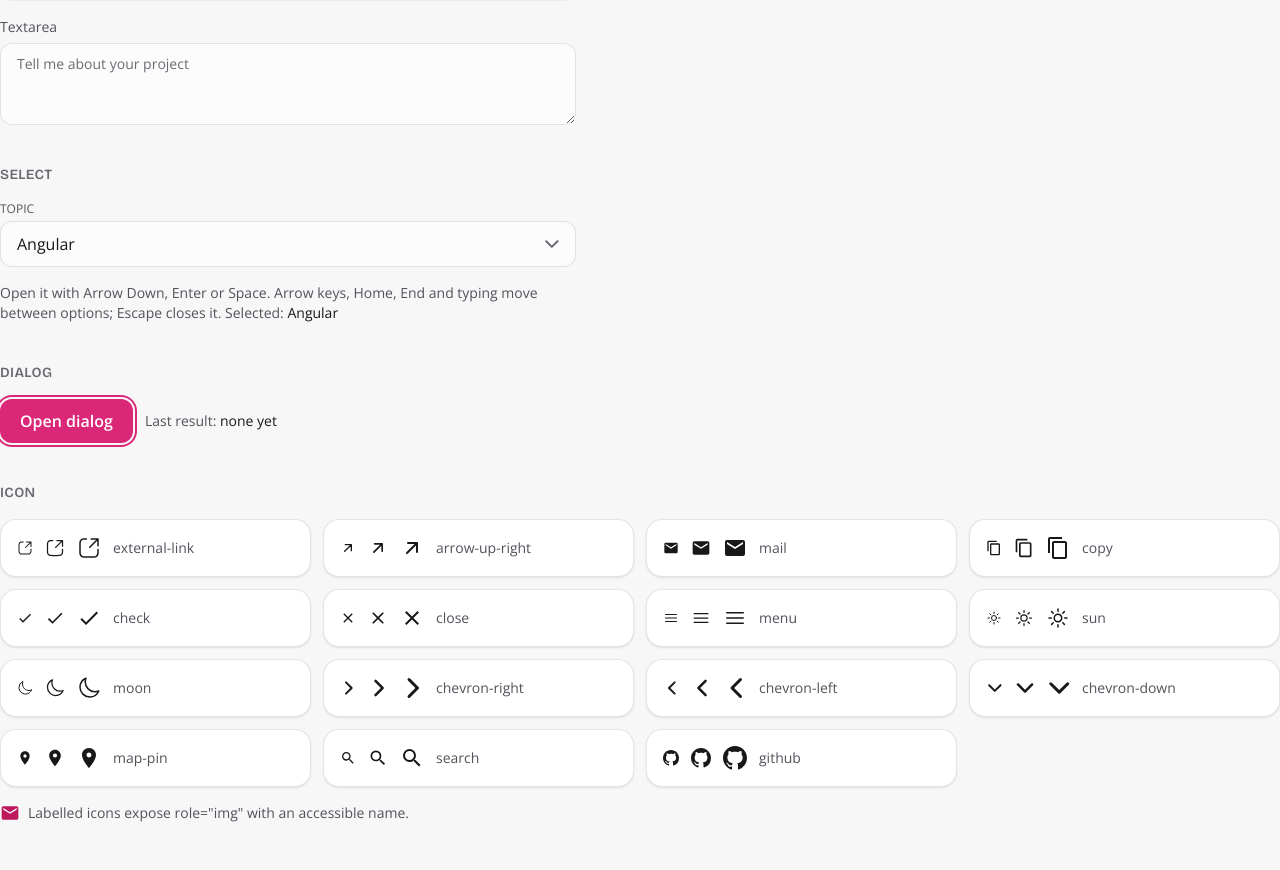
Test: UiKitComponent › select and dialog demos › opens the demo dialog from the primary button and reports its result
The image size is (1280, 870).
(page scrolled)
Click the button "Open dialog".
click(66, 421)  # box [0,399,133,443]
(page scrolled)
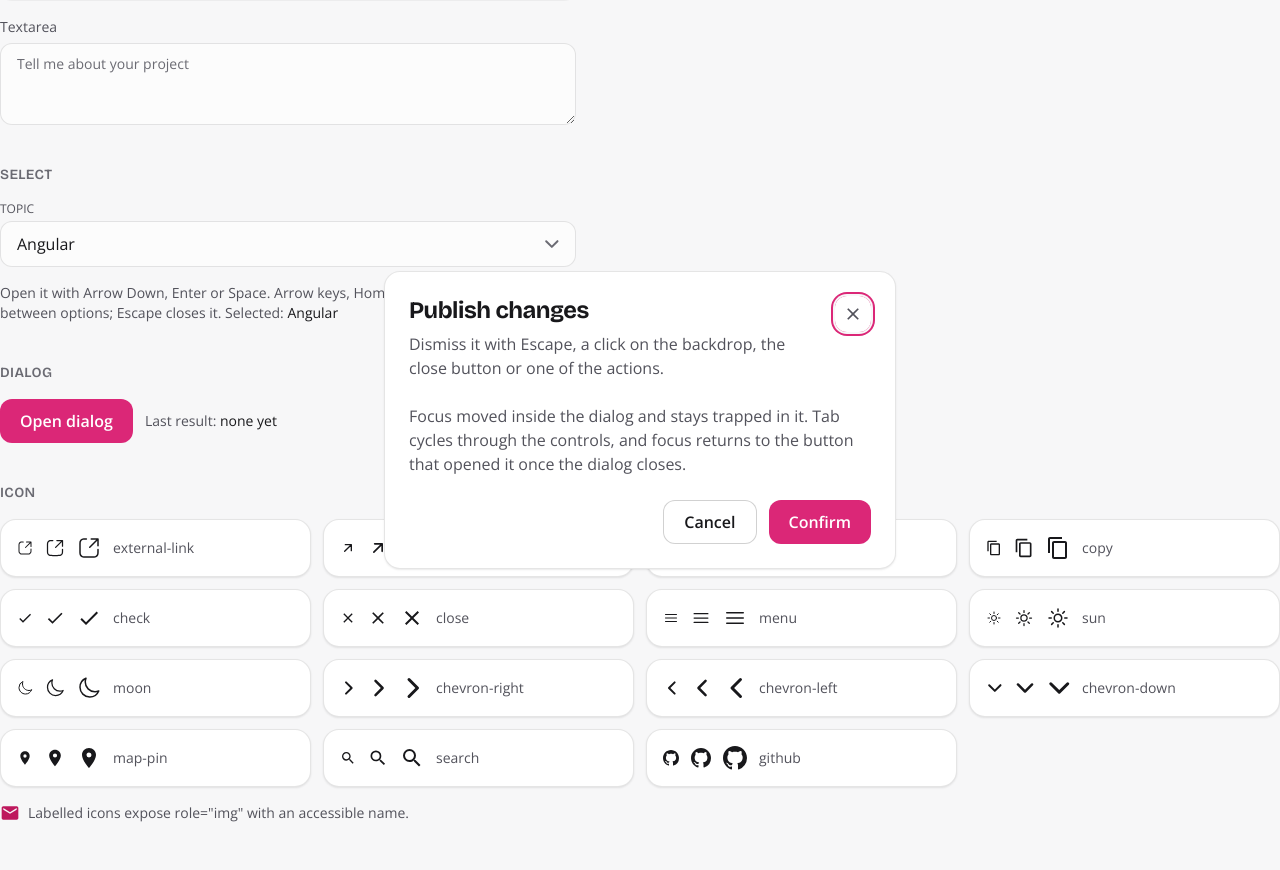
Expected: the element that starts with "Publish changes" is shown, [384,271,896,569]
Click the button "Confirm".
click(820, 522)  # box [768,500,871,544]
(page scrolled)
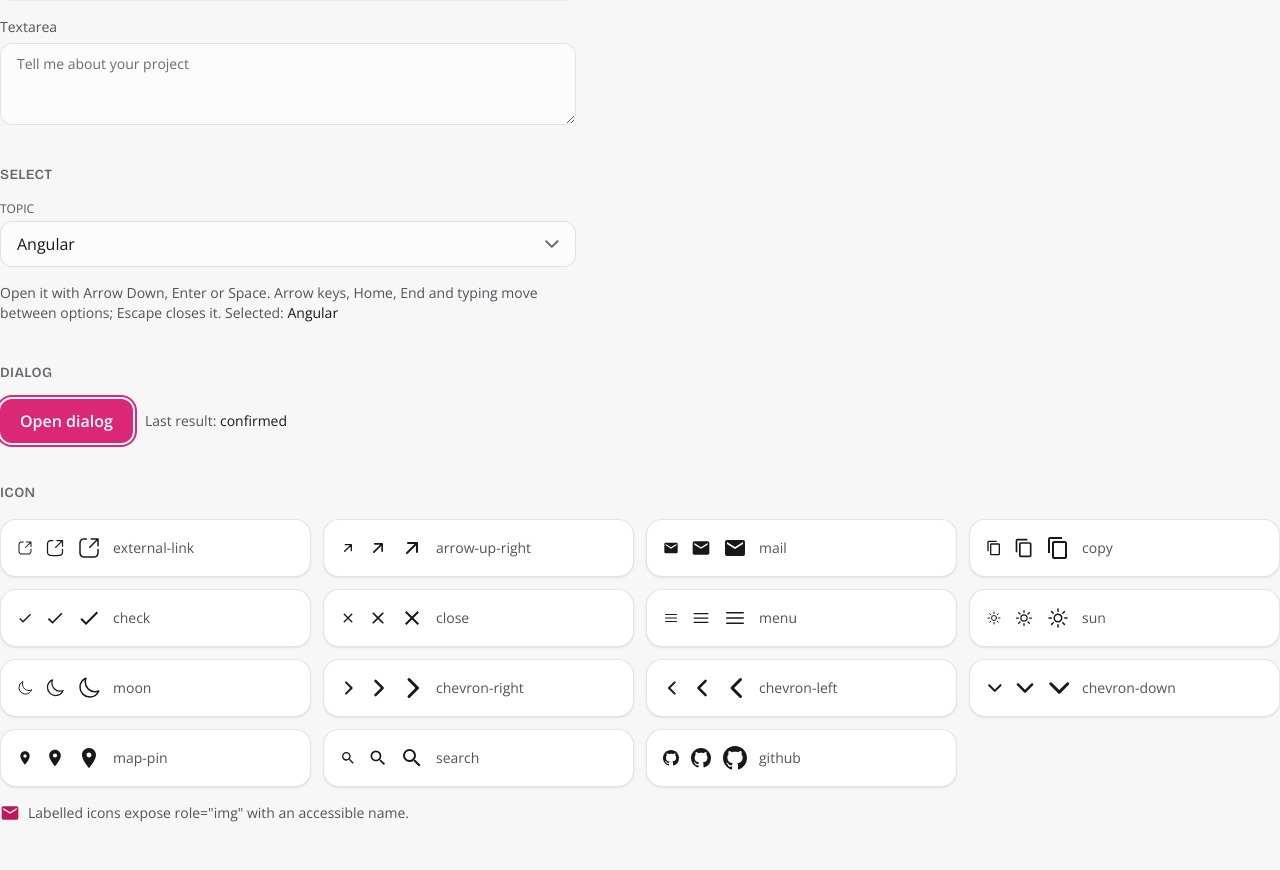
Expected: the text "confirmed" is shown, [220,411,287,430]
